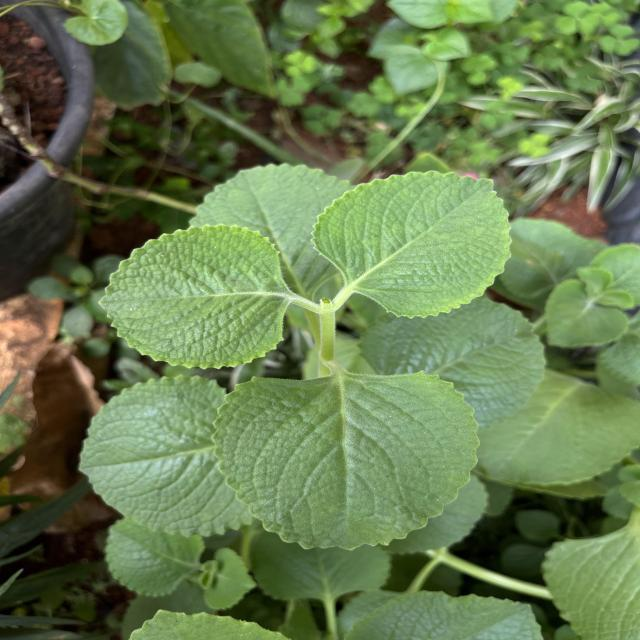Plectranthus barbatus: (209, 368, 482, 552), (310, 169, 514, 320), (76, 372, 256, 538), (95, 222, 292, 370), (104, 515, 206, 599), (542, 278, 630, 349)
